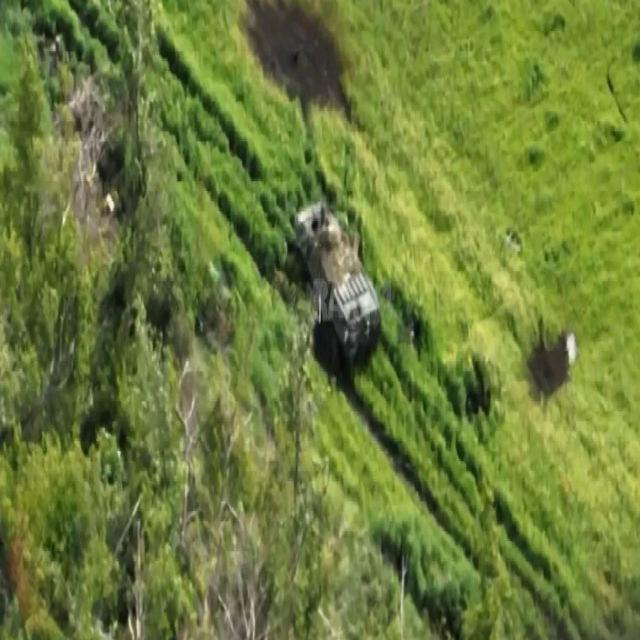APC: (292, 197, 385, 361)
